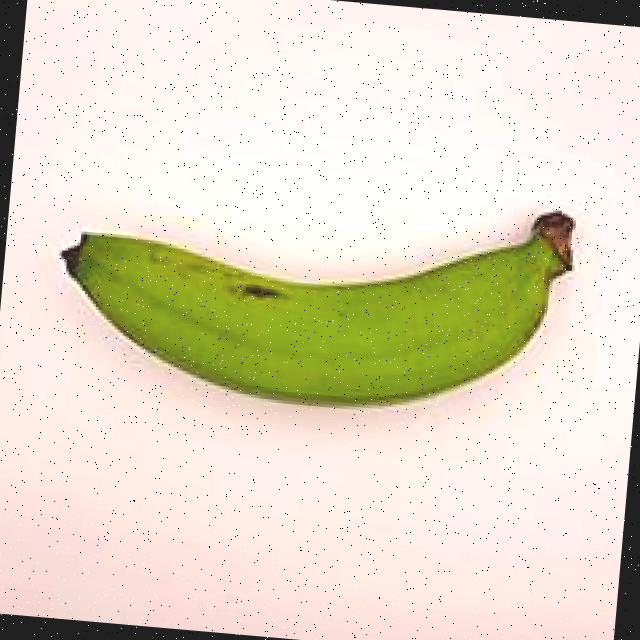Raw: (39, 138, 610, 442)
